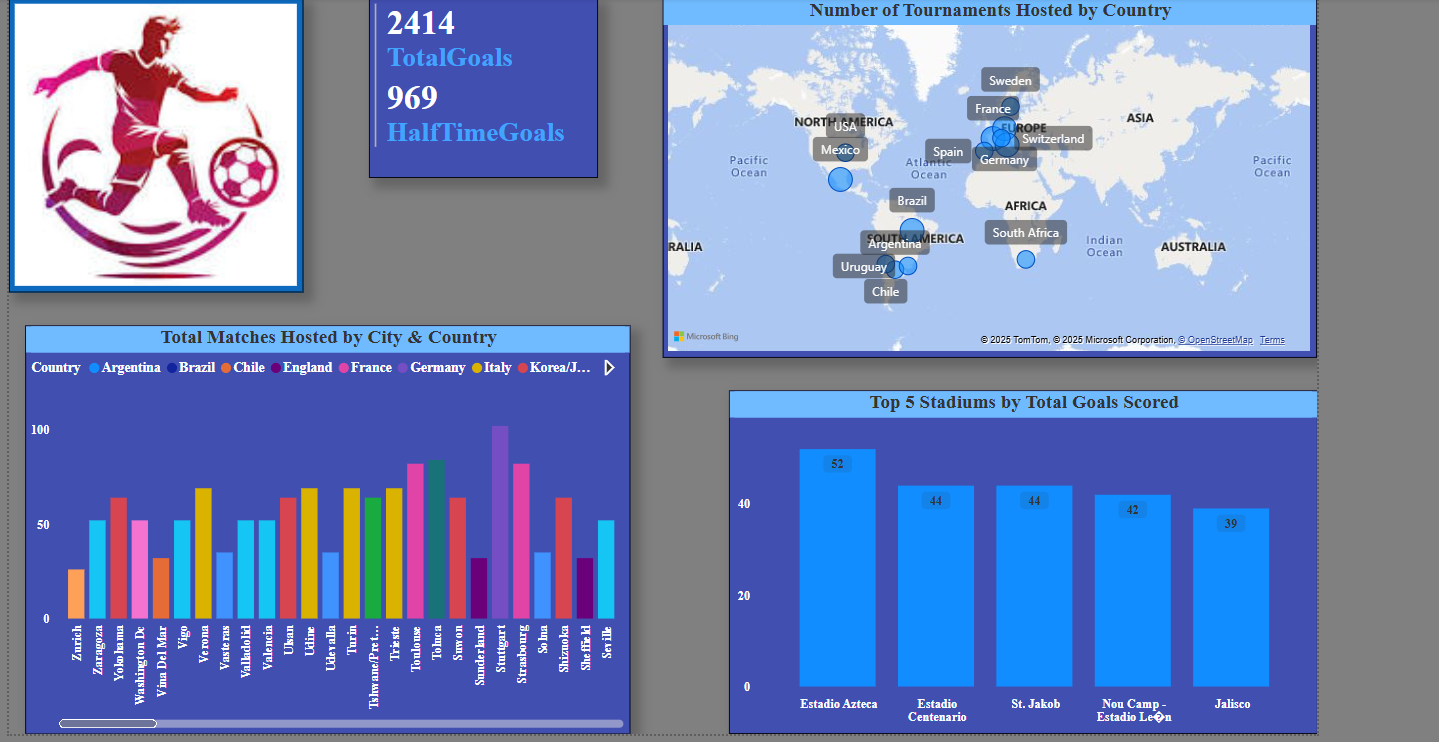

Layout of this report page (visuals, bound fields, positions):
{"tool":"powerbi","page":{"name":"Map View","canvas":[1280,720],"ordinal":4},"visuals":[{"type":"shape","box":[0,0,288,288],"z":0},{"type":"map","title":"Number of Tournaments Hosted by Country","fields":{"Category":["WorldCups.Country"],"Size":["CountNonNull(WorldCups.Country)"]},"box":[640,0,640,352],"z":1000},{"type":"multiRowCard","fields":{"Values":["WorldCupMatches.TotalGoals","WorldCupMatches.HalfTimeGoals"]},"box":[352,0,224,176],"z":2000},{"type":"columnChart","title":"Total Matches Hosted by City & Country","fields":{"Category":["WorldCupMatches.City"],"Y":["Sum(WorldCups.MatchesPlayed)"],"Series":["WorldCups.Country"]},"box":[16,320,592,400],"z":3000},{"type":"columnChart","title":"Top 5 Stadiums by Total Goals Scored","fields":{"Category":["WorldCupMatches.Stadium"],"Y":["WorldCupMatches.TotalGoals"]},"box":[704,384,576,336],"z":4000},{"type":"image","box":[0,0,288,288],"z":5000}]}

Visuals, with their boxes on the page's 1280x720 design canvas (x1, y1, x2, y2). These are canvas units, not pixel positions in the 1439x742 screenshot, which may show the page scaled, cropped or inside an application window:
shape: (x1=0, y1=0, x2=288, y2=288)
"Number of Tournaments Hosted by Country" map: (x1=640, y1=0, x2=1280, y2=352)
multiRowCard - WorldCupMatches.TotalGoals x WorldCupMatches.HalfTimeGoals: (x1=352, y1=0, x2=576, y2=176)
"Total Matches Hosted by City & Country" columnChart: (x1=16, y1=320, x2=608, y2=720)
"Top 5 Stadiums by Total Goals Scored" columnChart: (x1=704, y1=384, x2=1280, y2=720)
image: (x1=0, y1=0, x2=288, y2=288)
